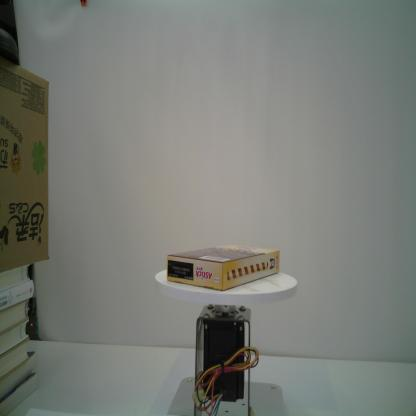Dessert: (166, 241, 282, 293)
